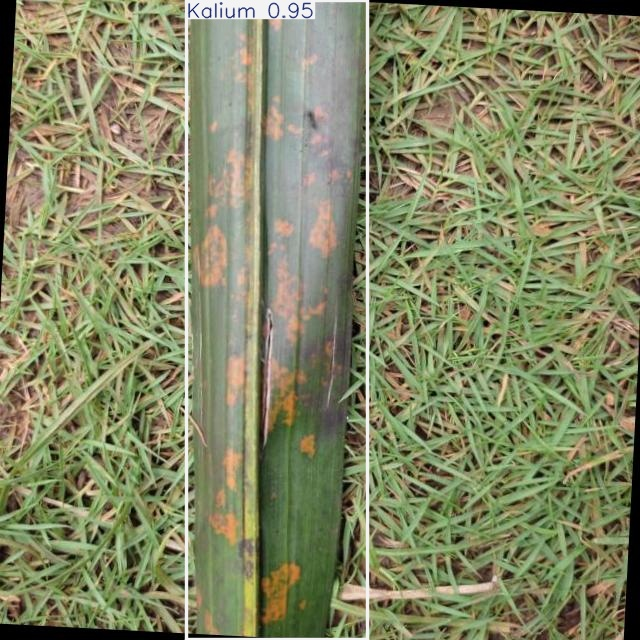Kalium: (187, 1, 368, 639)
